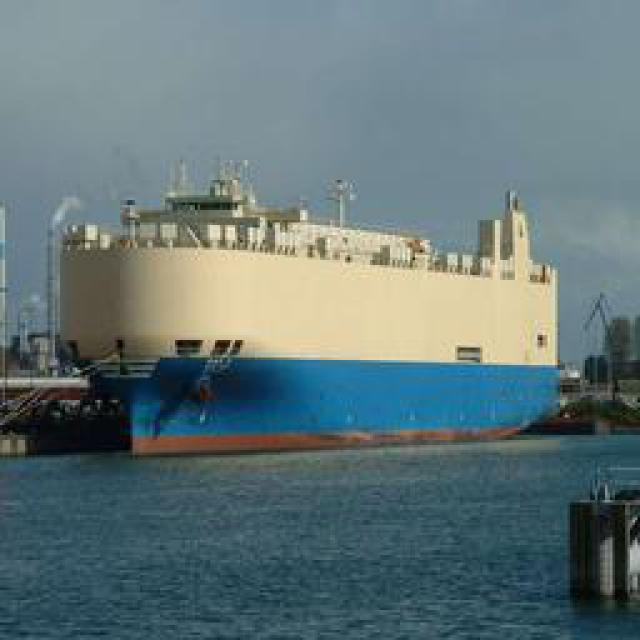Ship: (50, 166, 563, 446)
